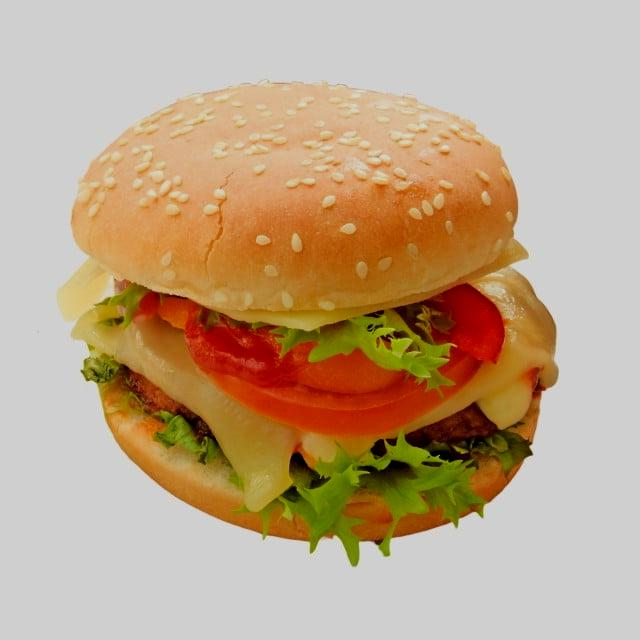burger: (36, 59, 588, 577)
